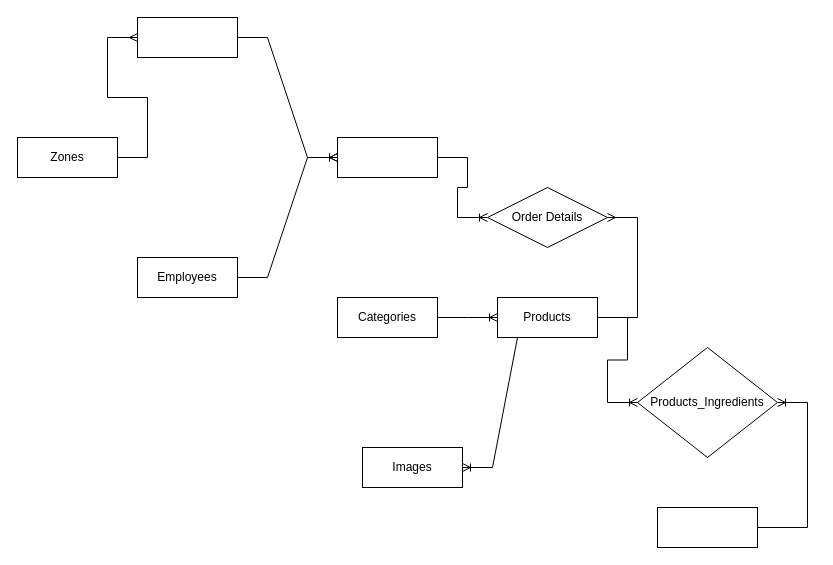
This 833x565 diagram has some shape labels left out. The centre of each missing label's shape, as x and y in pixels:
"Ingredients" goes at point 707,527.
"Orders" goes at point 387,157.
"Tables" goes at point 187,37.
